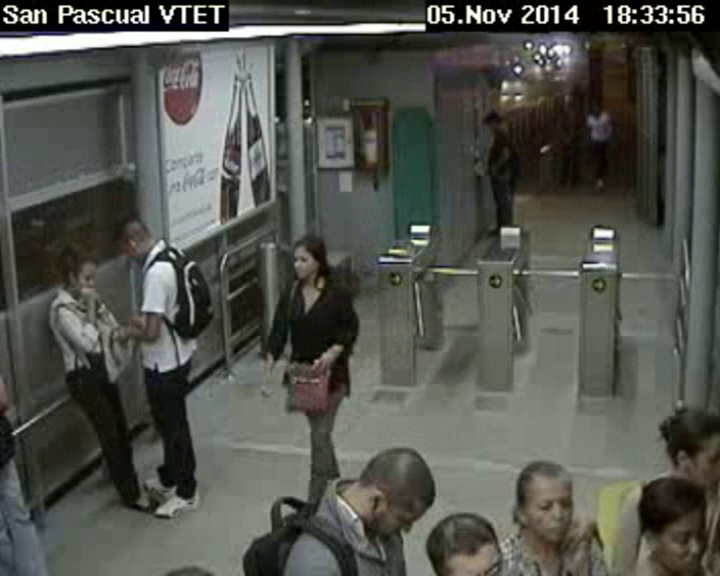person: (342, 437, 439, 534), (636, 473, 715, 576), (508, 452, 580, 551), (655, 398, 720, 489), (429, 509, 503, 576), (110, 211, 161, 269), (58, 245, 97, 301), (289, 233, 328, 278), (476, 107, 505, 136), (590, 99, 600, 117)
